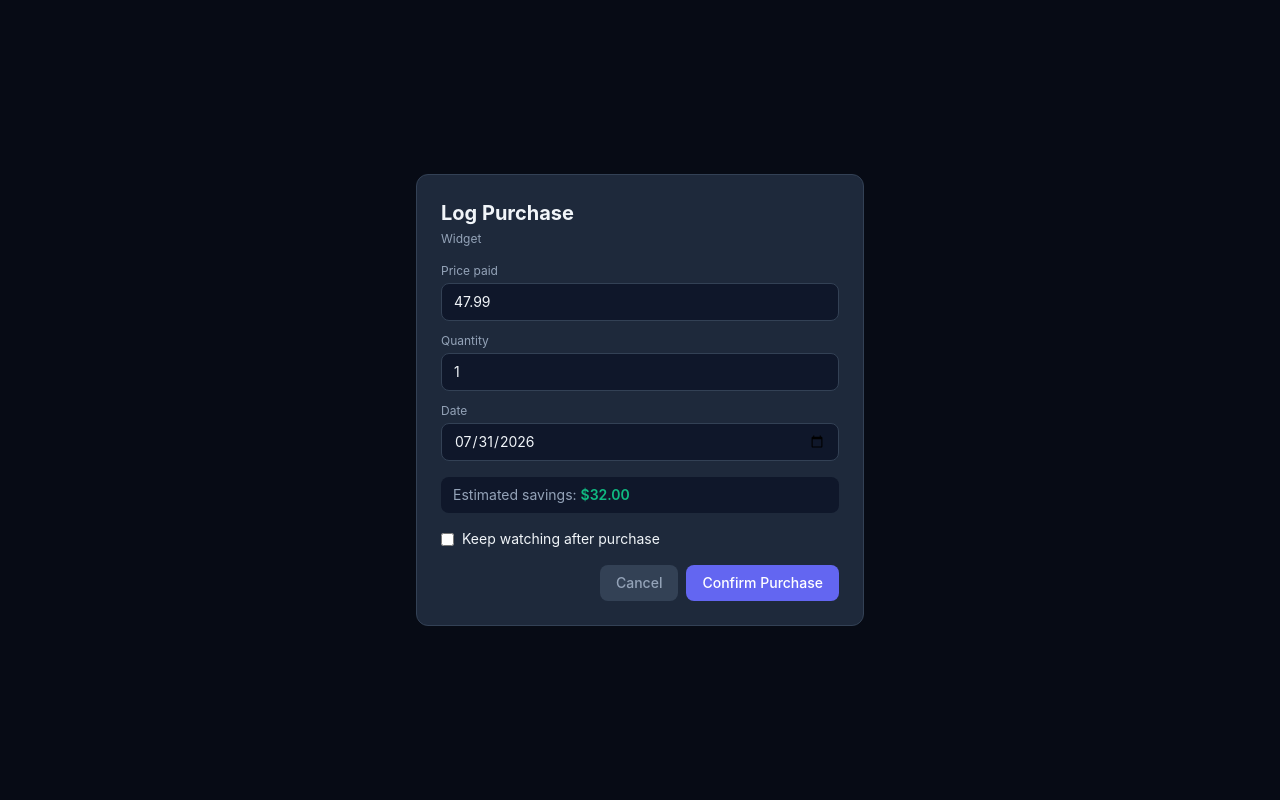
Test: PurchaseModal › shows live estimated savings based on price × quantity
This screenshot has width=1280, height=800.
Expected: the text "Estimated savings: $32.00" is shown, x1=441 y1=477 x2=839 y2=513
Replace the text in the number field labelled "Quantity" with "2" at (640, 372), box x1=441 y1=353 x2=839 y2=391
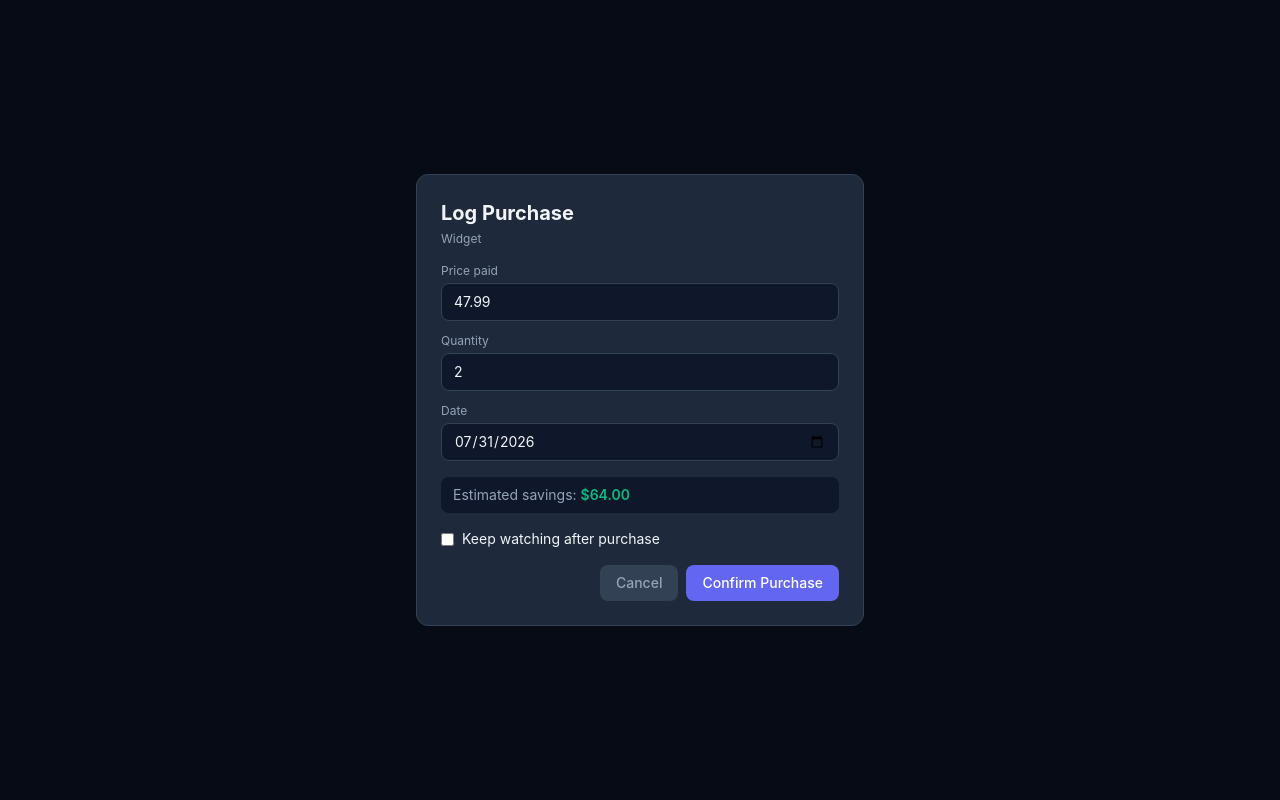
Expected: the text "Estimated savings: $64.00" is shown, x1=441 y1=477 x2=839 y2=513
